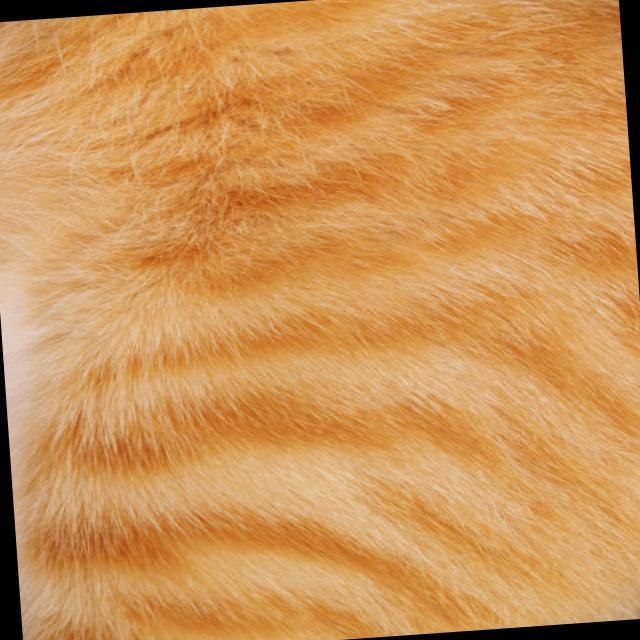Healthy skin: (306, 136, 640, 463), (18, 173, 304, 464), (134, 0, 616, 162), (98, 474, 433, 640), (450, 473, 640, 624)
